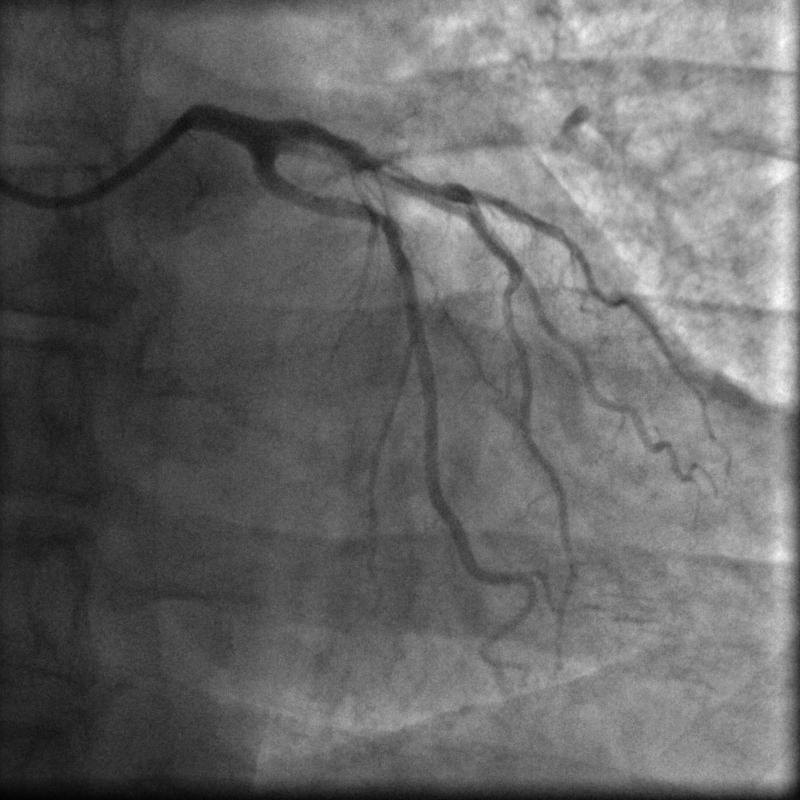Stenosis: (369, 160, 466, 202)
